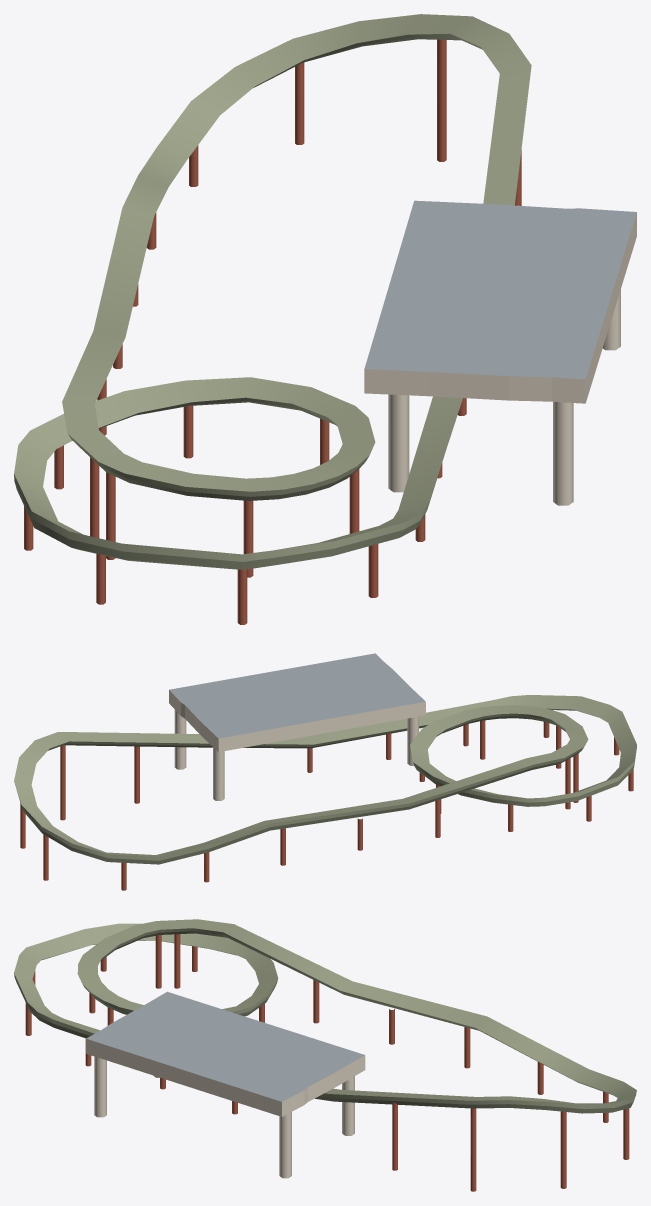
Rendered from carowinds-wilderness-run.glb.
3 renders of one model, top to bottom at view 1: azimuth 30°, elevation 25°; view 2: azimuth 150°, elevation 25°; view 3: azimuth 270°, elevation 25°, orthographic. The views are drawn at different scales.
Visible parts, largest first — view 1: Wilderness Run; view 2: Wilderness Run; view 3: Wilderness Run.
Part boxes in pixels (x1,y1,x2,y2): Wilderness Run: [14, 14, 636, 624]; Wilderness Run: [14, 653, 636, 890]; Wilderness Run: [14, 919, 636, 1191].
Bounding box in the file's own units: 29.32 × 5.95 × 33.67.
